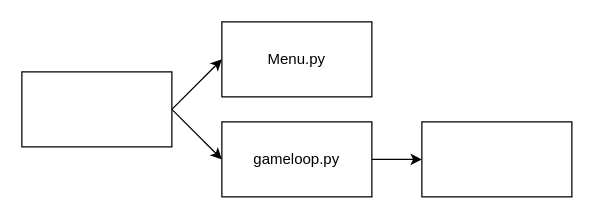
Some shapes in this 594 by 219 pixel diagram are drawn without their labels. The centre of each missing label's shape, as x and y in pixels:
player.py: (x=496, y=159)
run.py: (x=96, y=109)
